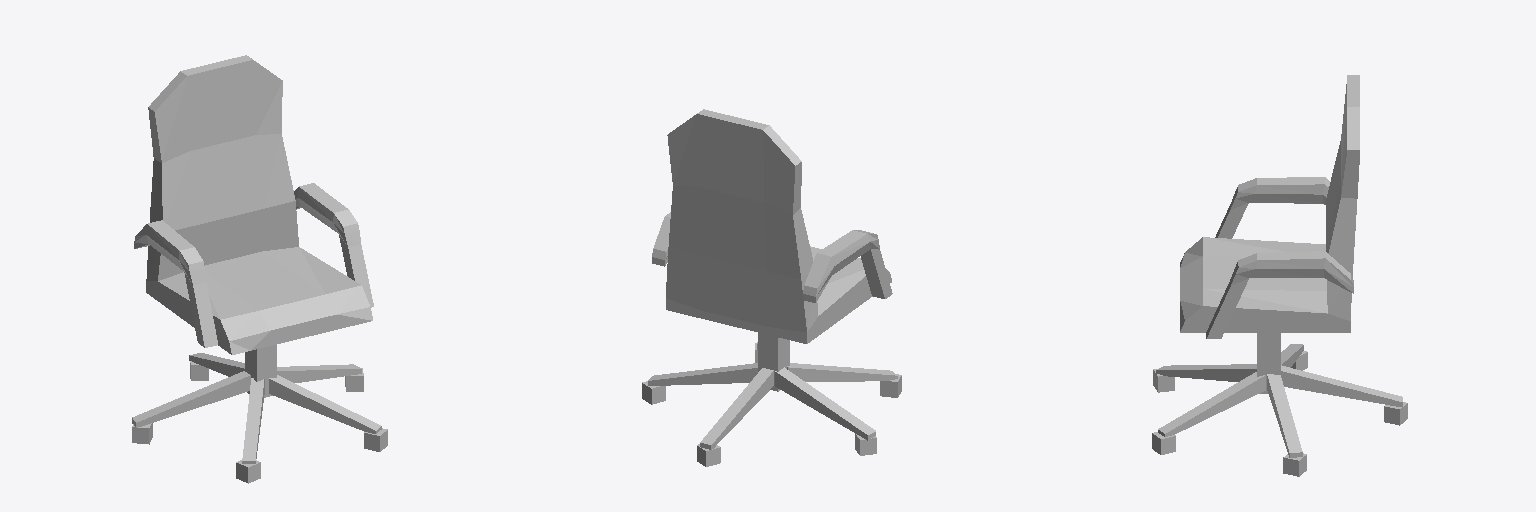
File: mesh_chair_wheels.obj
3 renders of one model, left to right at view 1: azimuth 30°, elevation 25°; view 2: azimuth 150°, elevation 25°; view 3: azimuth 270°, elevation 25°, orthographic.
Visible parts, largest first — view 1: Cube.001_Cube.003, Cube.011, Cube.005_Cube.007; view 2: Cube.001_Cube.003, Cube.005_Cube.007, Cube.011; view 3: Cube.001_Cube.003, Cube.011, Cube.005_Cube.007.
Boxes of the visible parts, box(x1,y1,x2,y2) form: Cube.001_Cube.003: box(146, 55, 372, 354); Cube.011: box(132, 183, 387, 483); Cube.005_Cube.007: box(132, 345, 381, 463); Cube.001_Cube.003: box(666, 109, 891, 343); Cube.005_Cube.007: box(648, 333, 897, 450); Cube.011: box(642, 212, 901, 466); Cube.001_Cube.003: box(1180, 75, 1359, 332); Cube.011: box(1152, 177, 1407, 476); Cube.005_Cube.007: box(1156, 333, 1402, 457).
Size of the model in its own units: 3.29 by 4.43 by 3.13.